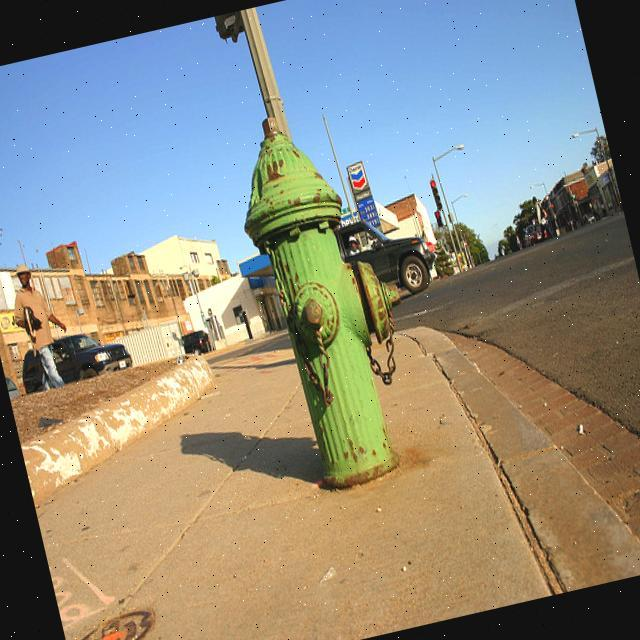fire_hydrant: (220, 96, 441, 498)
